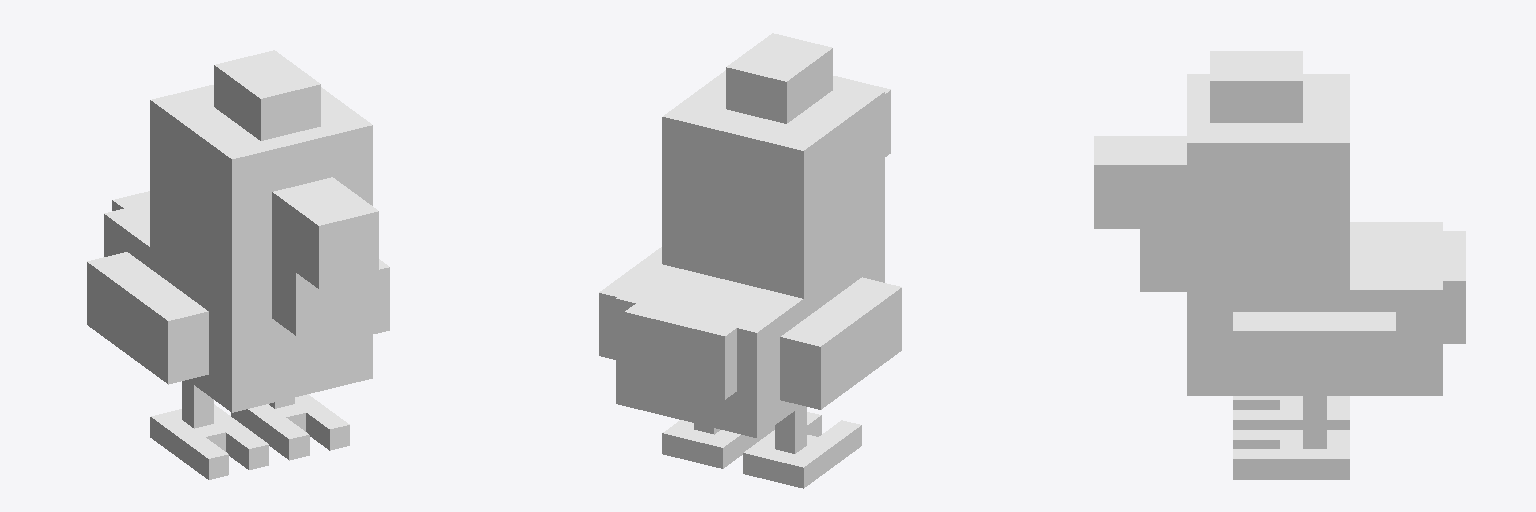
File: CrossyRoad_Assets_1.1-0.obj
3 renders of one model, left to right at view 1: azimuth 30°, elevation 25°; view 2: azimuth 150°, elevation 25°; view 3: azimuth 270°, elevation 25°, orthographic.
Visible parts, largest first — view 1: object 1; view 2: object 1; view 3: object 1.
Part boxes in pixels (left/top/right/bottom): object 1: left=87, top=50, right=389, bottom=479; object 1: left=599, top=33, right=901, bottom=488; object 1: left=1094, top=51, right=1465, bottom=479.
Bounding box in the file's own units: 1.1 × 1.8 × 1.6.